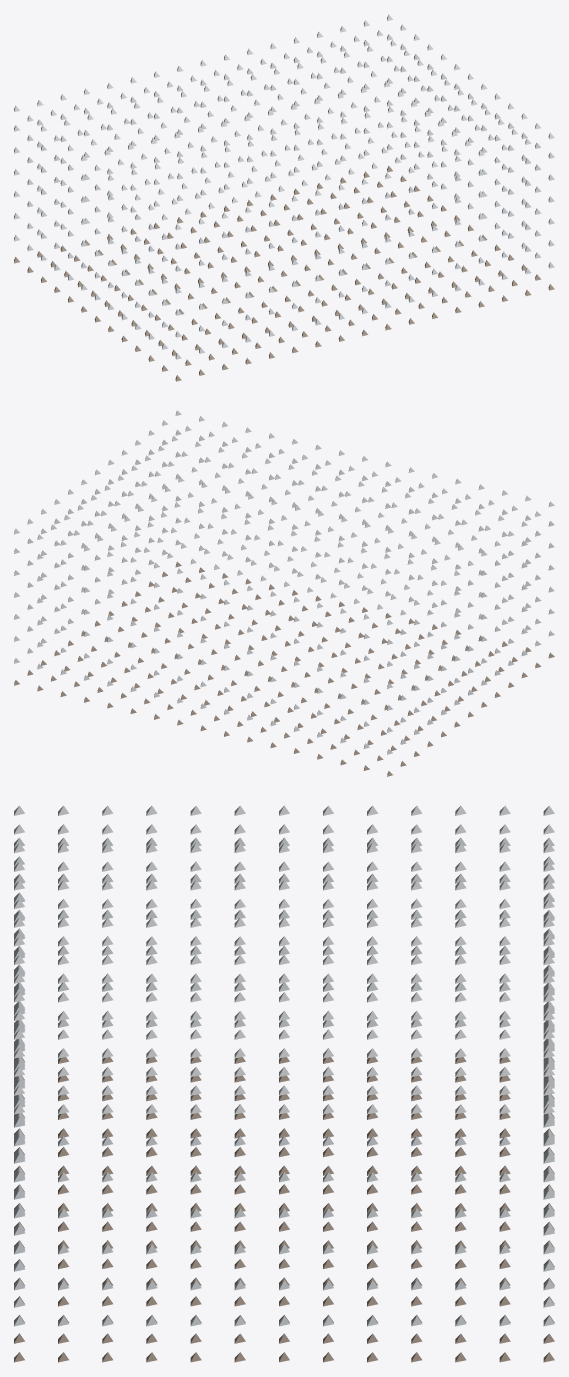
File: scan-preview.glb
3 views of the same model, one above another, from view 1: azimuth 30°, elevation 25°; view 2: azimuth 150°, elevation 25°; view 3: azimuth 270°, elevation 25° (orthographic). The views are drawn at different scales.
Visible parts, largest first — view 1: geometry_0; view 2: geometry_0; view 3: geometry_0.
Part boxes in pixels (bbox=[...]): geometry_0: bbox=[14, 14, 554, 381]; geometry_0: bbox=[14, 410, 554, 776]; geometry_0: bbox=[14, 805, 554, 1362].
Bounding box in the file's own units: 8.13 × 3.2 × 6.13.
